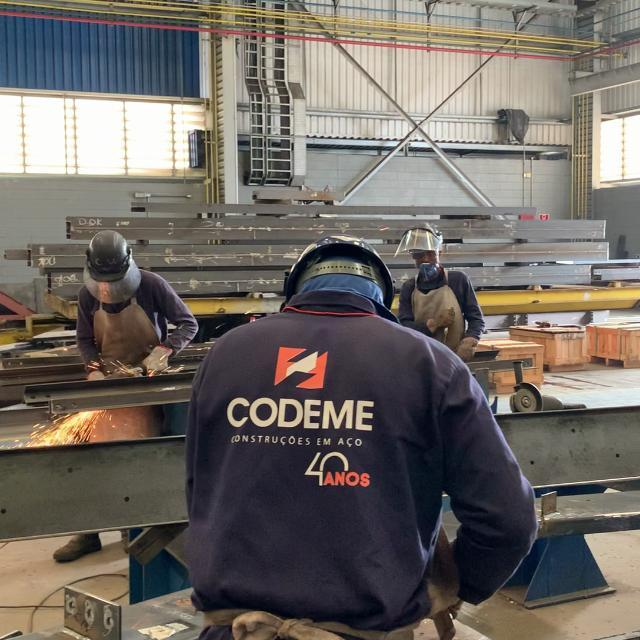eye-glass: (80, 253, 140, 307), (396, 229, 442, 253)
face-shield: (141, 345, 173, 380), (456, 336, 478, 361)
glove: (283, 235, 397, 313), (87, 229, 134, 284), (87, 229, 130, 283), (400, 220, 435, 238)
mask: (190, 236, 547, 640), (78, 228, 200, 384), (393, 220, 484, 365)
